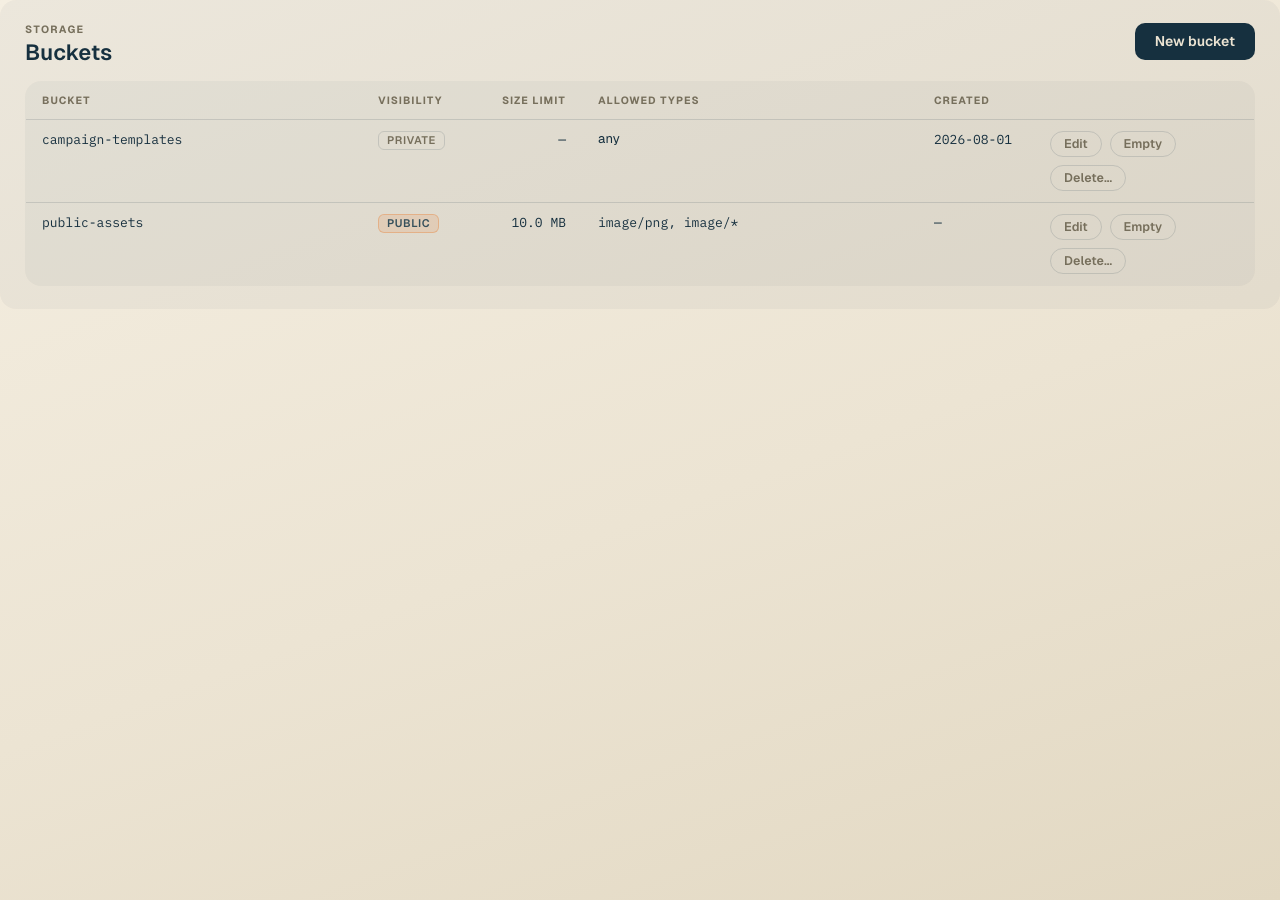
it: BucketManager › Edit opens the dialog with the bucket's settings and immutable name
The width and height of the screenshot is (1280, 900).
Click the button "Edit" in the row of "public-assets": {"x": 1076, "y": 227} top-left (1050, 214), bottom-right (1102, 240)
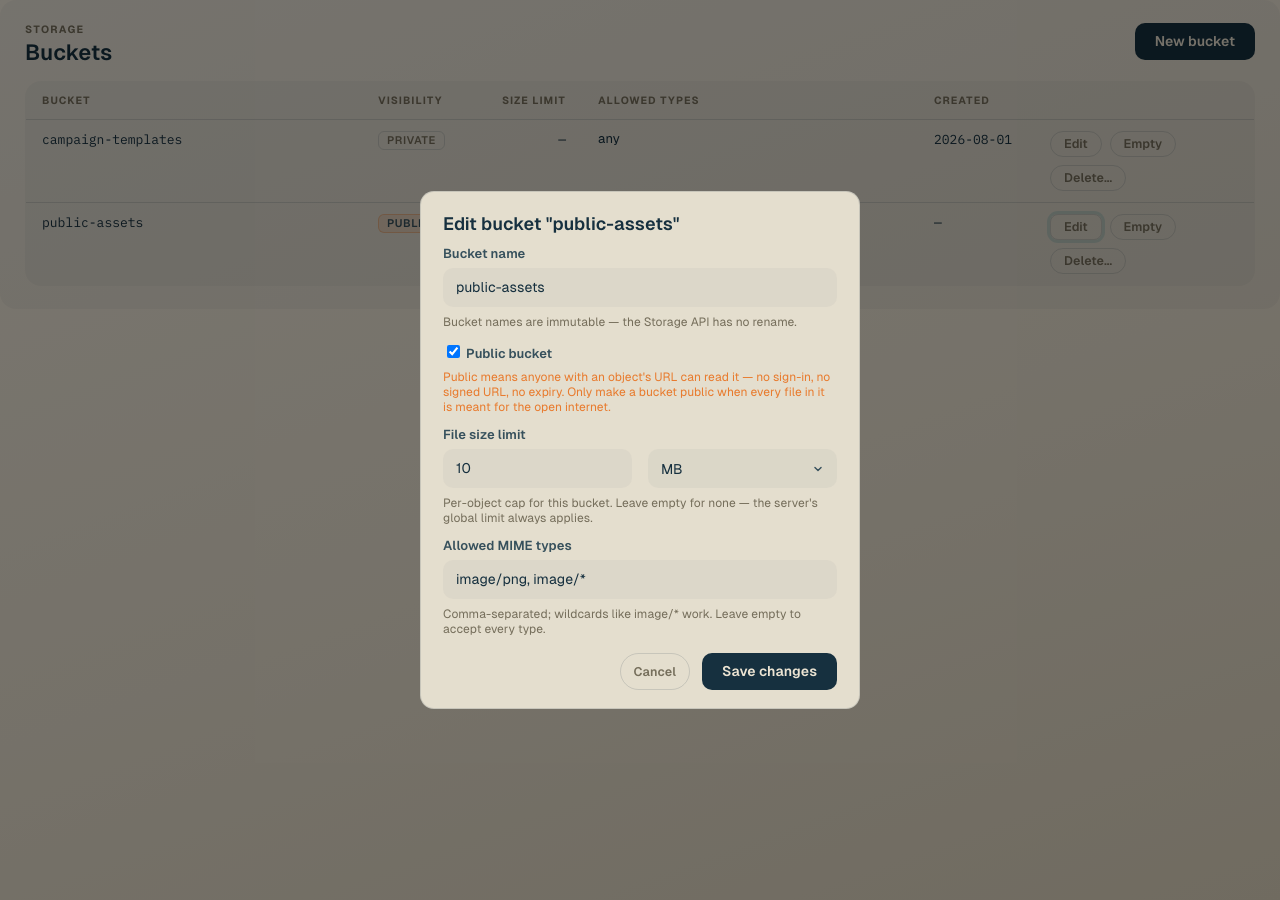
Result: the field labelled "Bucket name" is disabled at top-left (443, 268), bottom-right (837, 307)
Result: the field labelled "Bucket name" holds "public-assets" at top-left (443, 268), bottom-right (837, 307)
